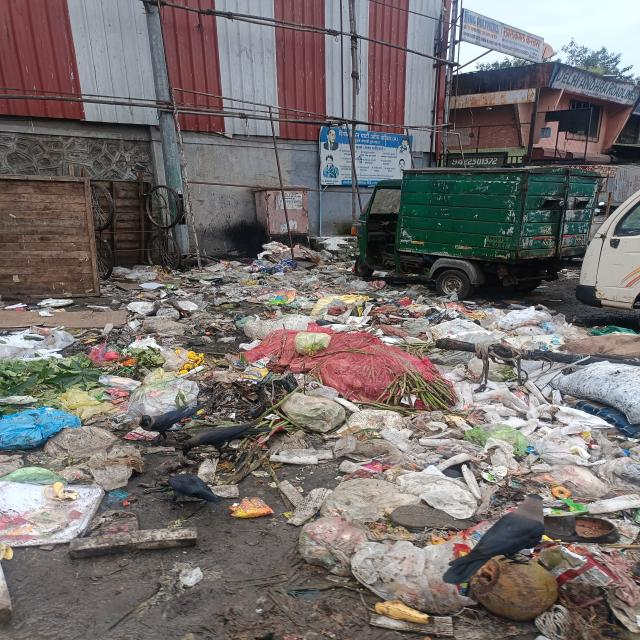garbage: (3, 298, 640, 619), (120, 251, 357, 299)
